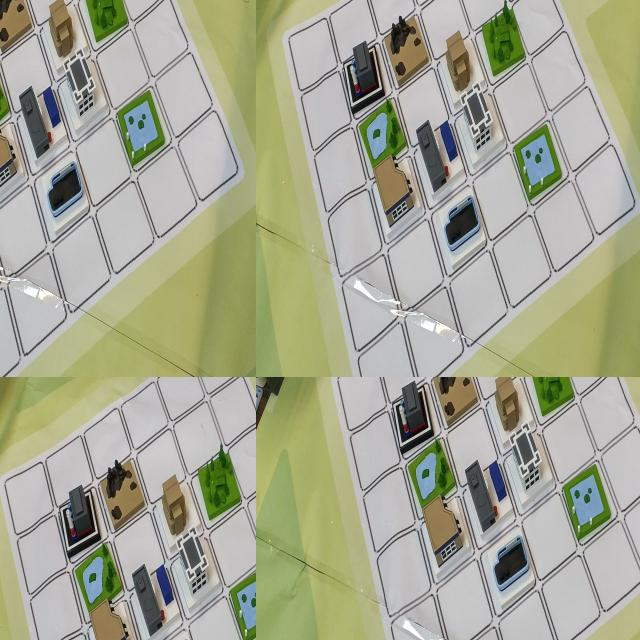bus_stop: (24, 0, 93, 101), (448, 15, 504, 107), (140, 561, 202, 640), (458, 443, 509, 527)
factory: (91, 223, 163, 351), (516, 230, 570, 330), (387, 379, 435, 444)
fish_pool: (182, 8, 249, 120), (571, 24, 624, 110), (563, 462, 611, 537), (235, 436, 256, 526)
forest: (10, 246, 83, 370), (448, 227, 508, 330), (10, 568, 72, 640), (531, 377, 577, 416)
gogo_shop: (18, 102, 86, 218), (447, 136, 503, 221), (484, 529, 537, 609), (237, 521, 256, 618)
research_build: (98, 0, 164, 98), (197, 377, 256, 470), (511, 15, 562, 104), (505, 430, 555, 509)
restaurant: (98, 80, 170, 202), (506, 116, 568, 220), (419, 504, 468, 576)
silicate_rock: (476, 284, 537, 377), (76, 466, 133, 561), (50, 314, 123, 377), (435, 377, 481, 424)
volunteer_center: (378, 226, 438, 320), (143, 468, 198, 555), (0, 221, 38, 342), (484, 377, 531, 432)
wet_land: (376, 125, 441, 232), (0, 106, 38, 227), (0, 521, 41, 621), (407, 437, 458, 504)
